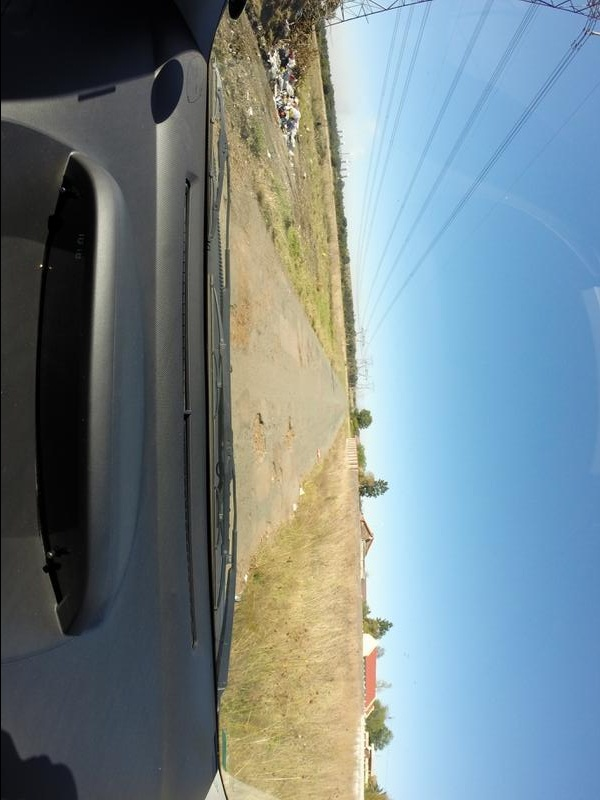pothole: (231, 301, 257, 345), (254, 412, 268, 460), (280, 417, 297, 454), (278, 468, 288, 482), (271, 461, 278, 480)
